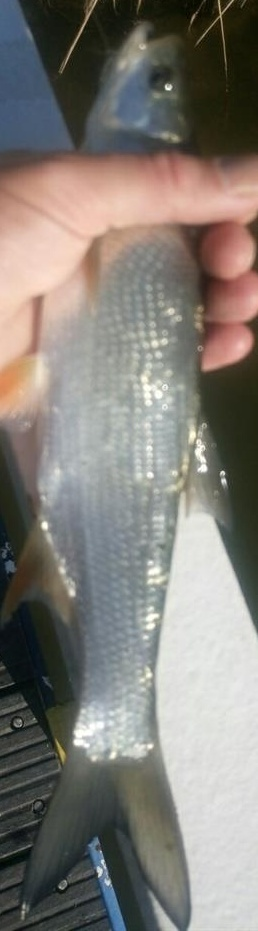Aspius aspius: (20, 20, 238, 931)
